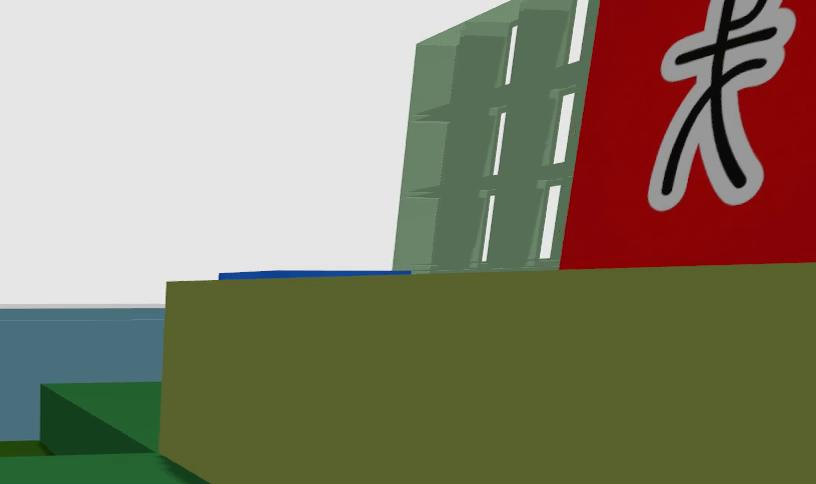KFS_FAKE: (558, 4, 813, 266), (648, 0, 794, 210)
KFS_REAL: (216, 266, 421, 279)
